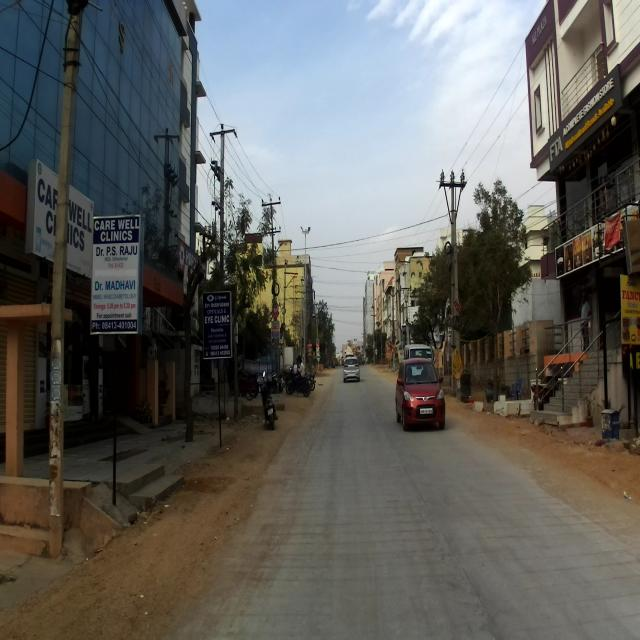car ahead at: (396, 356, 447, 436)
electric pole ahead at: (44, 0, 87, 582)
motorcycle ahead at: (256, 368, 279, 432)
